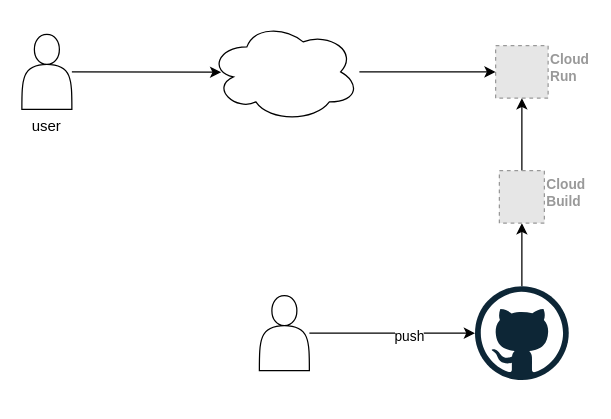
This 611x419 diagram has some shape labels left out. Grey dashed boxes stand in for pictures. The centre of each missing label's shape, as x and y in pixels:
cloudflare: pixel 283 71
developer: pixel 283 332
